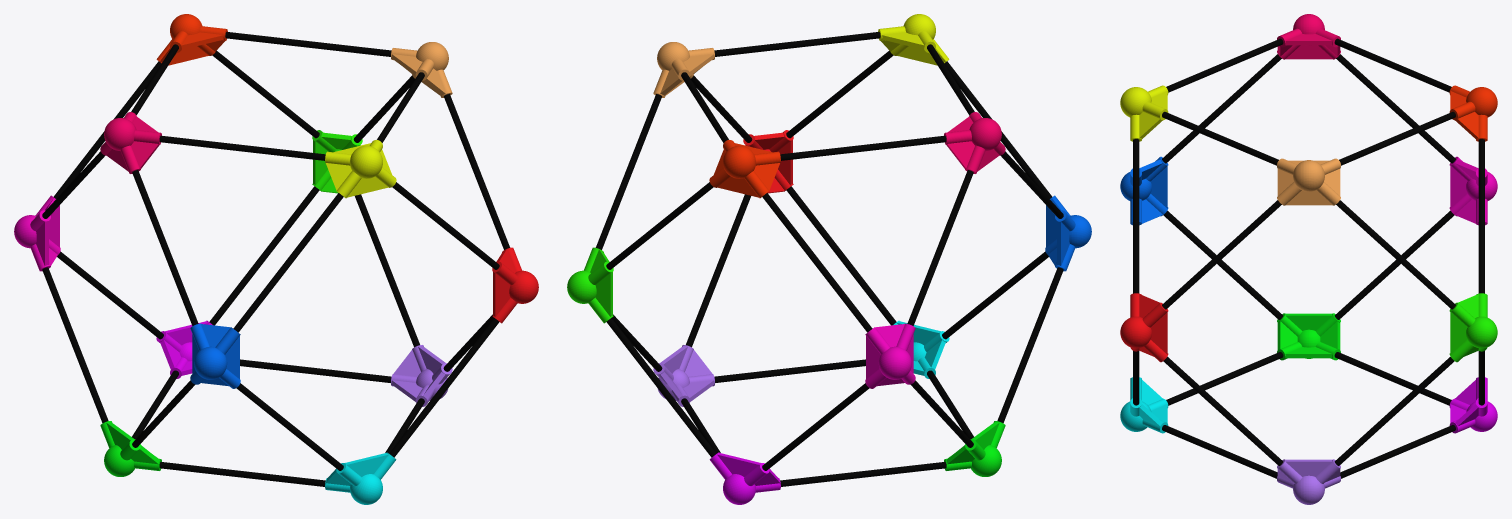
The model's file is PRISMA.glb.
The picture shows the model from 3 angles, left to right: view 1: azimuth 30°, elevation 25°; view 2: azimuth 150°, elevation 25°; view 3: azimuth 270°, elevation 25°; orthographic projection. The views are drawn at different scales.
Visible parts, largest first — view 1: CUBOCTAEDRO - Part_VERTICE-7, CUBOCTAEDRO - Part_VERTICE-11, CUBOCTAEDRO - Part_VERTICE-10, CUBOCTAEDRO - Part_VERTICE-3, CUBOCTAEDRO - Part_VERTICE-1, CUBOCTAEDRO - Part_VERTICE-8, CUBOCTAEDRO - Part_VERTICE-9, CUBOCTAEDRO - Part_VERTICE-6, CUBOCTAEDRO - Part_VERTICE-2, CUBOCTAEDRO - Part_VERTICE-12, CUBOCTAEDRO - Part_VERTICE-4, CUBOCTAEDRO - Part_VERTICE-5 (+21 smaller); view 2: CUBOCTAEDRO - Part_VERTICE-6, CUBOCTAEDRO - Part_VERTICE-9, CUBOCTAEDRO - Part_VERTICE-10, CUBOCTAEDRO - Part_VERTICE-3, CUBOCTAEDRO - Part_VERTICE-4, CUBOCTAEDRO - Part_VERTICE-5, CUBOCTAEDRO - Part_VERTICE-11, CUBOCTAEDRO - Part_VERTICE-7, CUBOCTAEDRO - Part_VERTICE-2, CUBOCTAEDRO - Part_VERTICE-12, CUBOCTAEDRO - Part_VERTICE-1, CUBOCTAEDRO - Part_VERTICE-8 (+21 smaller); view 3: CUBOCTAEDRO - Part_VERTICE-12, CUBOCTAEDRO - Part_VERTICE-2, CUBOCTAEDRO - Part_VERTICE-5, CUBOCTAEDRO - Part_VERTICE-8, CUBOCTAEDRO - Part_VERTICE-3, CUBOCTAEDRO - Part_VERTICE-10, CUBOCTAEDRO - Part_VERTICE-6, CUBOCTAEDRO - Part_VERTICE-7, CUBOCTAEDRO - Part_VERTICE-9, CUBOCTAEDRO - Part_VERTICE-11, CUBOCTAEDRO - Part_VERTICE-1, CUBOCTAEDRO - Part_VERTICE-4 (+18 smaller).
Part boxes in pixels (x1,y1,x2,y2): CUBOCTAEDRO - Part_VERTICE-7: [190, 323, 240, 388]; CUBOCTAEDRO - Part_VERTICE-11: [325, 140, 396, 198]; CUBOCTAEDRO - Part_VERTICE-10: [100, 112, 161, 173]; CUBOCTAEDRO - Part_VERTICE-3: [391, 345, 452, 406]; CUBOCTAEDRO - Part_VERTICE-1: [325, 452, 396, 504]; CUBOCTAEDRO - Part_VERTICE-8: [492, 247, 538, 323]; CUBOCTAEDRO - Part_VERTICE-9: [156, 14, 227, 65]; CUBOCTAEDRO - Part_VERTICE-6: [14, 195, 60, 271]; CUBOCTAEDRO - Part_VERTICE-2: [100, 421, 161, 476]; CUBOCTAEDRO - Part_VERTICE-12: [391, 42, 452, 97]; CUBOCTAEDRO - Part_VERTICE-4: [156, 320, 212, 378]; CUBOCTAEDRO - Part_VERTICE-5: [312, 130, 362, 193]; CUBOCTAEDRO - Part_VERTICE-6: [865, 323, 915, 388]; CUBOCTAEDRO - Part_VERTICE-9: [709, 140, 780, 198]; CUBOCTAEDRO - Part_VERTICE-10: [944, 112, 1005, 173]; CUBOCTAEDRO - Part_VERTICE-3: [653, 345, 714, 406]; CUBOCTAEDRO - Part_VERTICE-4: [709, 452, 780, 504]; CUBOCTAEDRO - Part_VERTICE-5: [567, 247, 613, 323]; CUBOCTAEDRO - Part_VERTICE-11: [878, 14, 949, 65]; CUBOCTAEDRO - Part_VERTICE-7: [1045, 195, 1091, 271]; CUBOCTAEDRO - Part_VERTICE-2: [944, 421, 1005, 476]; CUBOCTAEDRO - Part_VERTICE-12: [653, 42, 714, 97]; CUBOCTAEDRO - Part_VERTICE-1: [893, 320, 949, 378]; CUBOCTAEDRO - Part_VERTICE-8: [743, 130, 793, 193]; CUBOCTAEDRO - Part_VERTICE-12: [1277, 158, 1340, 205]; CUBOCTAEDRO - Part_VERTICE-2: [1277, 313, 1340, 360]; CUBOCTAEDRO - Part_VERTICE-5: [1449, 293, 1497, 362]; CUBOCTAEDRO - Part_VERTICE-8: [1120, 293, 1168, 362]; CUBOCTAEDRO - Part_VERTICE-3: [1277, 459, 1340, 504]; CUBOCTAEDRO - Part_VERTICE-10: [1277, 14, 1340, 59]; CUBOCTAEDRO - Part_VERTICE-6: [1449, 156, 1497, 225]; CUBOCTAEDRO - Part_VERTICE-7: [1120, 156, 1168, 225]; CUBOCTAEDRO - Part_VERTICE-9: [1449, 85, 1497, 141]; CUBOCTAEDRO - Part_VERTICE-11: [1120, 85, 1168, 141]; CUBOCTAEDRO - Part_VERTICE-1: [1120, 377, 1168, 433]; CUBOCTAEDRO - Part_VERTICE-4: [1449, 377, 1497, 433].
Size of the model in its own units: 160 by 160 by 160.
